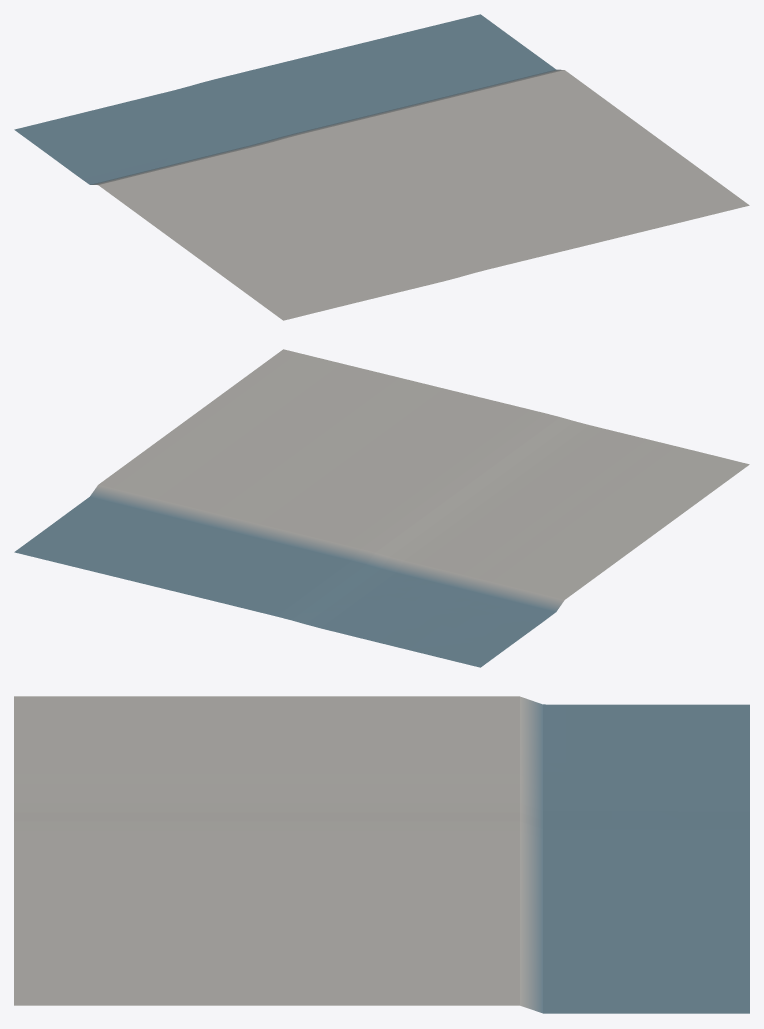
File: tile_5_7.glb
3 renders of one model, top to bottom at view 1: azimuth 30°, elevation 25°; view 2: azimuth 150°, elevation 25°; view 3: azimuth 270°, elevation 25°, orthographic. The views are drawn at different scales.
Parts seen in each view (by area): view 1: terrain; view 2: terrain; view 3: terrain.
Boxes of the visible parts, left/top/right/bottom form: terrain: left=14, top=14, right=749, bottom=320; terrain: left=14, top=349, right=749, bottom=667; terrain: left=14, top=696, right=749, bottom=1013.
Bounding box in the file's own units: 256 × 3.91 × 256.
